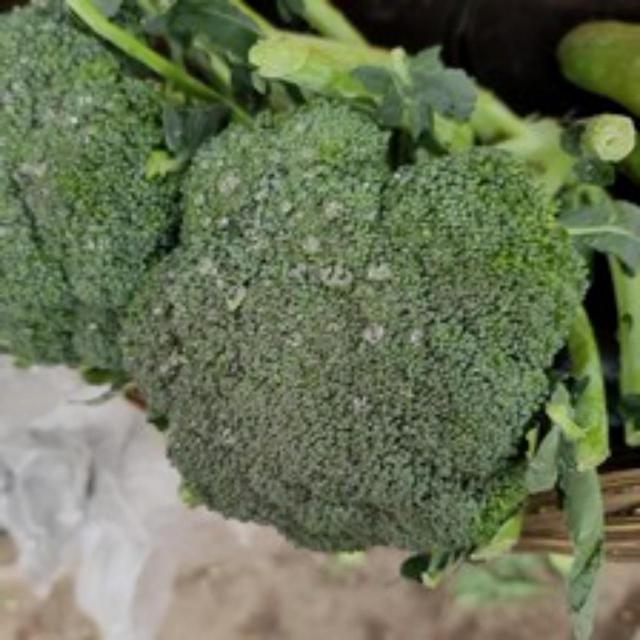broccoli: (134, 81, 586, 564)
